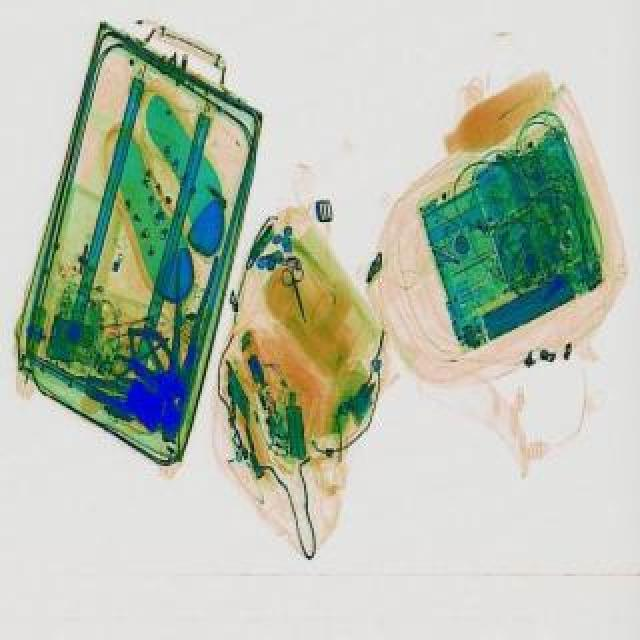pliers: (282, 266, 316, 330)
